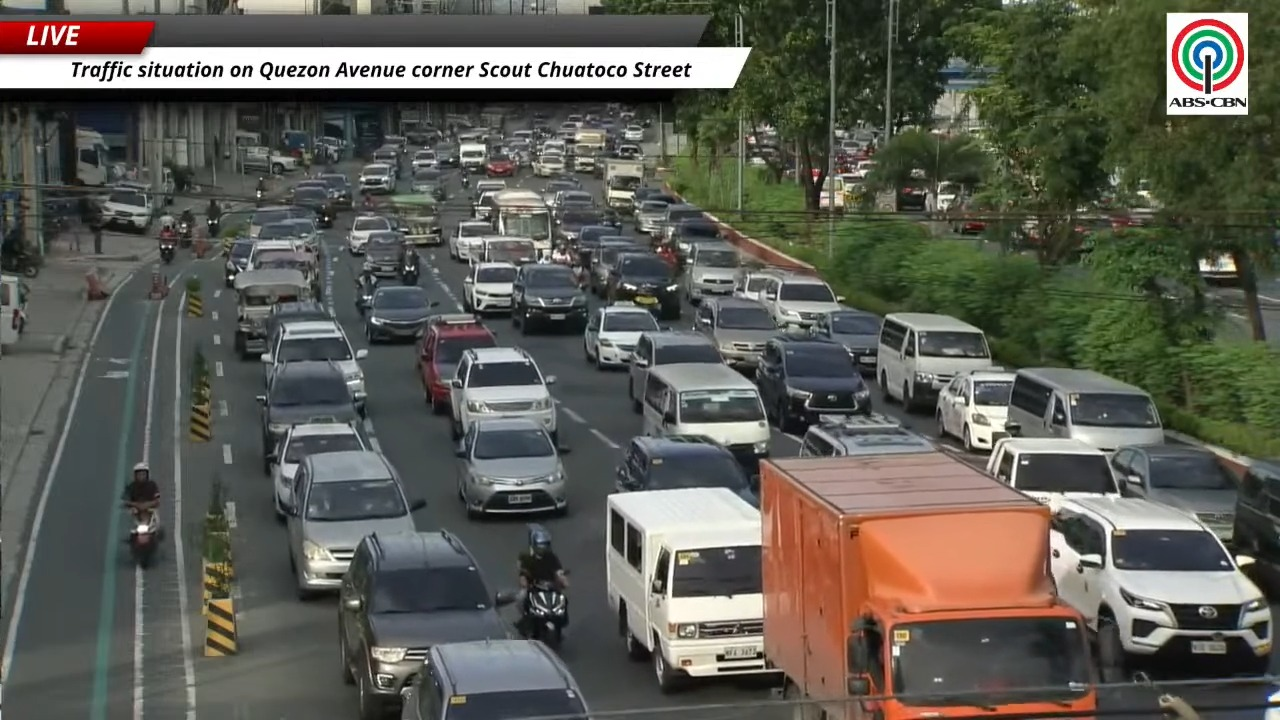bus: (493, 188, 552, 253)
car: (1049, 496, 1273, 681), (338, 530, 513, 717), (284, 450, 425, 599), (401, 640, 590, 719), (1110, 443, 1238, 541), (257, 361, 361, 472), (755, 336, 871, 431), (456, 417, 567, 516), (615, 435, 758, 506), (451, 347, 557, 439), (269, 423, 369, 518), (261, 319, 367, 402), (416, 314, 496, 413), (628, 330, 723, 413), (935, 368, 1014, 451), (694, 298, 777, 369), (800, 413, 937, 456), (511, 264, 588, 334), (583, 302, 660, 369), (605, 253, 681, 319), (1232, 460, 1279, 566), (811, 308, 882, 372), (762, 274, 842, 328), (364, 285, 436, 343), (589, 236, 650, 298), (681, 242, 741, 304), (657, 202, 720, 251), (664, 206, 723, 258), (462, 262, 516, 313), (247, 221, 303, 268), (264, 300, 331, 337), (101, 187, 153, 232), (264, 218, 322, 256), (248, 205, 312, 238), (346, 213, 393, 255), (364, 230, 403, 277), (292, 185, 335, 227), (448, 220, 492, 261), (733, 269, 787, 302), (556, 205, 601, 243), (224, 238, 253, 287), (634, 197, 669, 235), (318, 173, 353, 208), (411, 167, 447, 201), (358, 163, 395, 193), (542, 178, 579, 208), (372, 145, 401, 179), (633, 185, 677, 203), (578, 225, 616, 245), (533, 152, 564, 176), (556, 188, 595, 206), (485, 154, 516, 176), (434, 142, 459, 168), (411, 149, 436, 172), (616, 145, 643, 160), (623, 124, 644, 142)
motorcycle: (522, 582, 567, 648), (128, 510, 158, 567), (0, 244, 39, 278), (355, 276, 377, 314), (178, 220, 193, 247), (401, 264, 419, 285), (159, 241, 175, 264), (206, 218, 220, 237), (361, 195, 376, 211), (255, 189, 265, 205), (461, 171, 470, 188)
truck: (760, 452, 1096, 719), (985, 437, 1121, 509), (603, 158, 644, 211), (75, 127, 111, 186), (239, 146, 299, 174), (573, 130, 606, 172)
